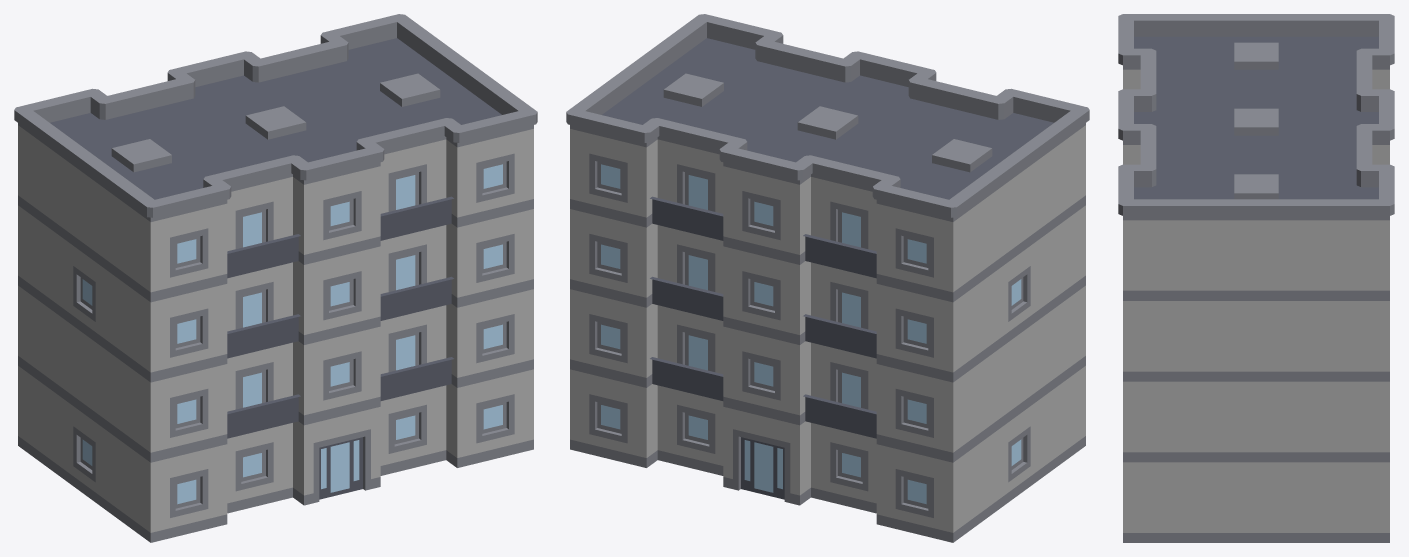
Rendered from large_buildinga_lev3.glb.
3 renders of one model, left to right at view 1: azimuth 30°, elevation 25°; view 2: azimuth 150°, elevation 25°; view 3: azimuth 270°, elevation 25°, orthographic.
Visible parts, largest first — view 1: large_buildinga_lev3; view 2: large_buildinga_lev3; view 3: large_buildinga_lev3.
Part boxes in pixels (x1,y1,x2,y2): large_buildinga_lev3: (14, 14, 537, 542); large_buildinga_lev3: (566, 14, 1089, 542); large_buildinga_lev3: (1118, 14, 1394, 542).
Size of the model in its own units: 8.85 by 7.29 by 5.38.
